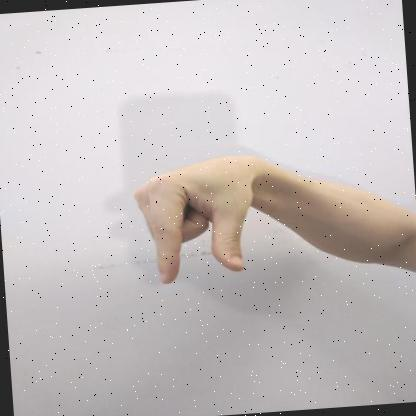Q: (134, 155, 259, 284)
